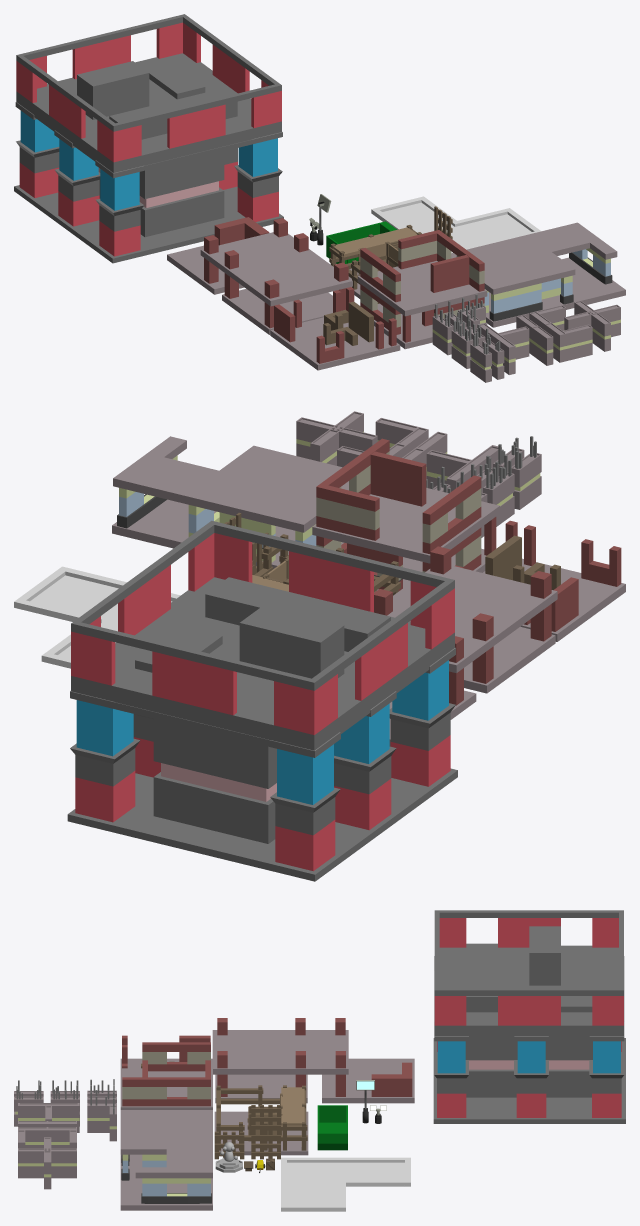
The model's file is walls.fbx.
The picture shows the model from 3 angles, top to bottom: view 1: azimuth 30°, elevation 25°; view 2: azimuth 150°, elevation 25°; view 3: azimuth 270°, elevation 25°; orthographic projection. The views are drawn at different scales.
Parts seen in each view (by area): view 1: Unfinished_Building.002, Unfinished_Building.001, BrickBuilding.001, BrickBuilding, Unfinished_Building, Foundation, WoodenSkeletonBuilding, ReinforcedWall1_CShape, ReinforcedWall1_LongWall.001, ReinforcedWall2_TShape, ReinforcedWall1_LongWall, Container (+5 smaller); view 2: Unfinished_Building.002, BrickBuilding.001, BrickBuilding, Unfinished_Building.001, Unfinished_Building, Foundation, ReinforcedWall1_LongWall.001, ReinforcedWall1_CShape, ReinforcedWall2_TShape, WoodenSkeletonBuilding, ReinforcedWall_Indent2.001, ReinforcedWall_Indent2 (+1 smaller); view 3: Unfinished_Building.002, Unfinished_Building.001, BrickBuilding.001, Foundation, BrickBuilding, WoodenSkeletonBuilding, ReinforcedWall1_LongWall.001, Container, WoodenWall_Tall, ReinforcedWall1_CShape, ReinforcedWall2_TShape, ReinforcedWall1.001 (+3 smaller).
Boxes of the visible parts, x1=… form: Unfinished_Building.002: x1=14, y1=14, x2=283, y2=263; Unfinished_Building.001: x1=167, y1=217, x2=352, y2=334; BrickBuilding.001: x1=451, y1=222, x2=625, y2=327; BrickBuilding: x1=357, y1=230, x2=487, y2=349; Unfinished_Building: x1=270, y1=287, x2=400, y2=370; Foundation: x1=371, y1=196, x2=540, y2=253; WoodenSkeletonBuilding: x1=329, y1=225, x2=421, y2=303; ReinforcedWall1_CShape: x1=529, y1=305, x2=592, y2=362; ReinforcedWall1_LongWall.001: x1=564, y1=300, x2=620, y2=351; ReinforcedWall2_TShape: x1=477, y1=323, x2=529, y2=374; ReinforcedWall1_LongWall: x1=516, y1=314, x2=553, y2=365; Container: x1=326, y1=221, x2=396, y2=263; Unfinished_Building.002: x1=67, y1=520, x2=457, y2=881; BrickBuilding.001: x1=112, y1=436, x2=348, y2=568; BrickBuilding: x1=312, y1=438, x2=499, y2=591; Unfinished_Building.001: x1=374, y1=546, x2=557, y2=746; Unfinished_Building: x1=483, y1=520, x2=625, y2=641; Foundation: x1=14, y1=566, x2=180, y2=668; ReinforcedWall1_LongWall.001: x1=296, y1=411, x2=377, y2=465; ReinforcedWall1_CShape: x1=337, y1=418, x2=428, y2=467; ReinforcedWall2_TShape: x1=426, y1=445, x2=501, y2=491; WoodenSkeletonBuilding: x1=252, y1=534, x2=400, y2=595; ReinforcedWall_Indent2.001: x1=511, y1=436, x2=541, y2=509; ReinforcedWall_Indent2: x1=483, y1=454, x2=514, y2=526; Unfinished_Building.002: x1=433, y1=910, x2=625, y2=1123; Unfinished_Building.001: x1=212, y1=1018, x2=414, y2=1103; BrickBuilding.001: x1=120, y1=1110, x2=212, y2=1210; Foundation: x1=281, y1=1157, x2=410, y2=1211; BrickBuilding: x1=120, y1=1042, x2=212, y2=1109; WoodenSkeletonBuilding: x1=214, y1=1085, x2=308, y2=1155; ReinforcedWall1_LongWall.001: x1=18, y1=1137, x2=76, y2=1189; Container: x1=317, y1=1105, x2=347, y2=1150; WoodenWall_Tall: x1=251, y1=1105, x2=280, y2=1159; ReinforcedWall1_CShape: x1=18, y1=1127, x2=76, y2=1148; ReinforcedWall2_TShape: x1=18, y1=1103, x2=79, y2=1132; ReinforcedWall1.001: x1=87, y1=1091, x2=116, y2=1141.
Bounding box in the file's own units: 2679 × 1006 × 4135.
